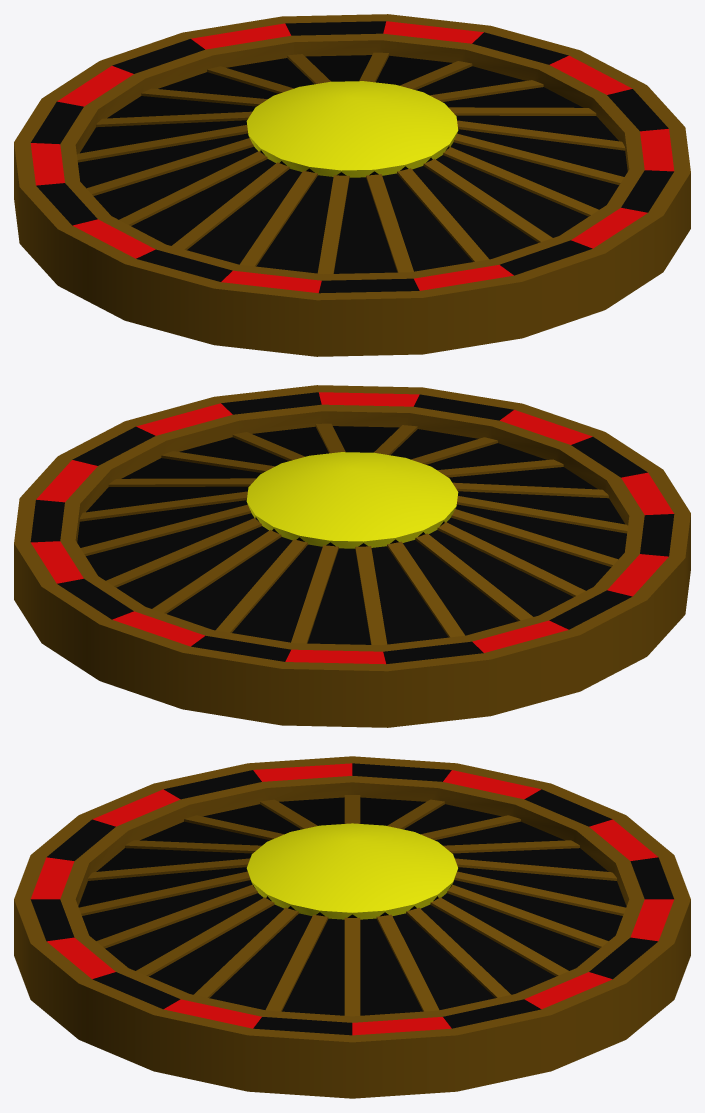
Rendered from Finished_roulette_wheel.fbx.
3 renders of one model, top to bottom at view 1: azimuth 30°, elevation 25°; view 2: azimuth 150°, elevation 25°; view 3: azimuth 270°, elevation 25°, orthographic.
Parts seen in each view (by area): view 1: wheel; view 2: wheel; view 3: wheel.
Boxes of the visible parts, <box> form: wheel: <box>14,14,690,356</box>; wheel: <box>14,385,690,727</box>; wheel: <box>14,756,690,1098</box>.
Size of the model in its own units: 2.32 by 0.4365 by 2.32.
